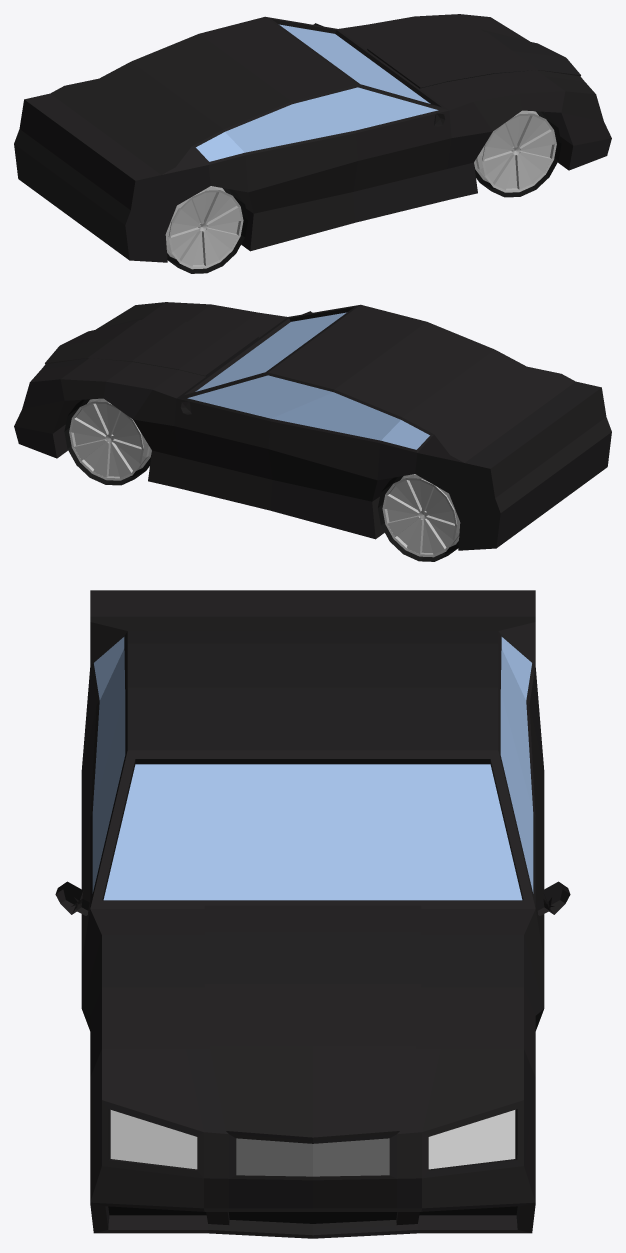
The model's file is Car.fbx.
3 renders of one model, top to bottom at view 1: azimuth 30°, elevation 25°; view 2: azimuth 150°, elevation 25°; view 3: azimuth 270°, elevation 25°, orthographic. The views are drawn at different scales.
Visible parts, largest first — view 1: Car; view 2: Car; view 3: Car.
Part boxes in pixels (box(x1,y1,x2,y2)): Car: box(14, 14, 611, 273); Car: box(14, 302, 611, 561); Car: box(55, 590, 570, 1238).
Bounding box in the file's own units: 240 × 151 × 535.
